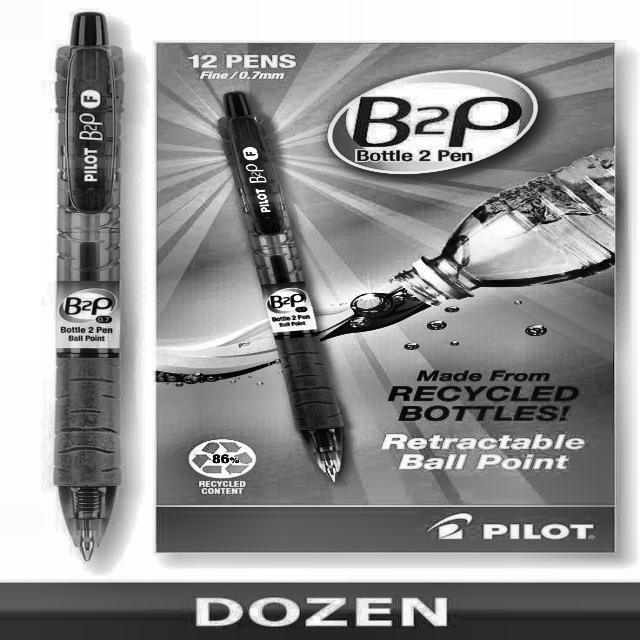Pen: (217, 93, 343, 486), (51, 11, 126, 562)
